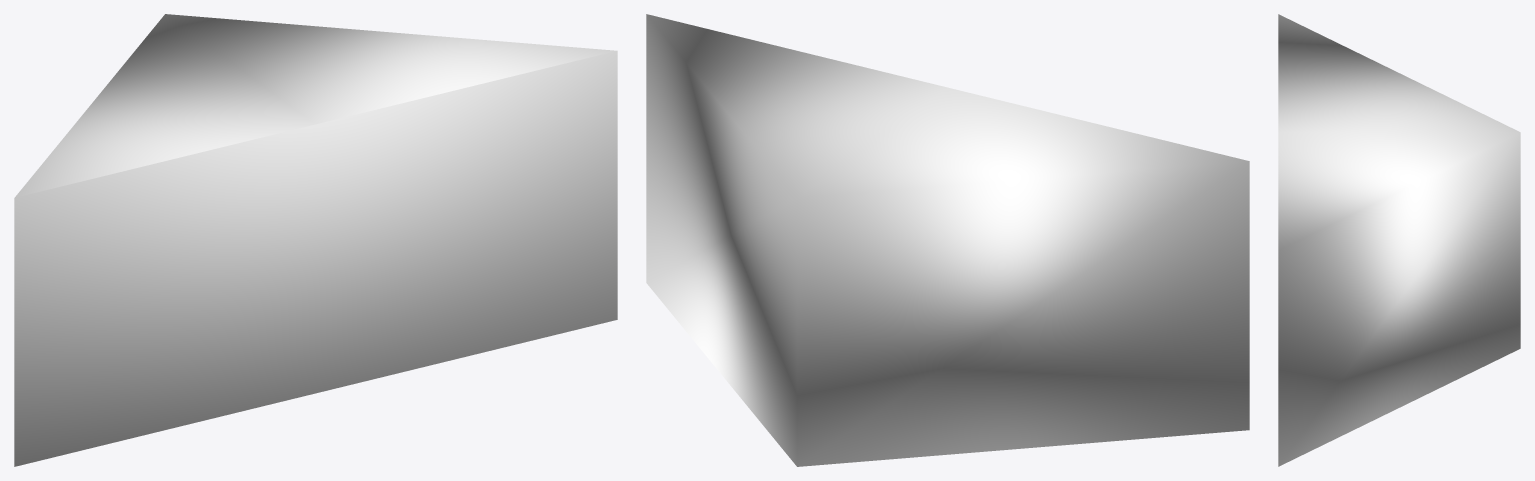
The model's file is p0_acc9999_00_acc00.gltf.
The picture shows the model from 3 angles, left to right: view 1: azimuth 30°, elevation 25°; view 2: azimuth 150°, elevation 25°; view 3: azimuth 270°, elevation 25°; orthographic projection. The views are drawn at different scales.
Visible parts, largest first — view 1: acc00_dummy_mesh_shape:obj; view 2: acc00_dummy_mesh_shape:obj; view 3: acc00_dummy_mesh_shape:obj.
Part boxes in pixels (bbox=[...]): acc00_dummy_mesh_shape:obj: bbox=[14, 14, 617, 466]; acc00_dummy_mesh_shape:obj: bbox=[646, 14, 1249, 466]; acc00_dummy_mesh_shape:obj: bbox=[1278, 14, 1520, 466].
Size of what is drawn, in the model's own units: 0.02 by 0.00853 by 0.00867.
1 material, 1 textured.
